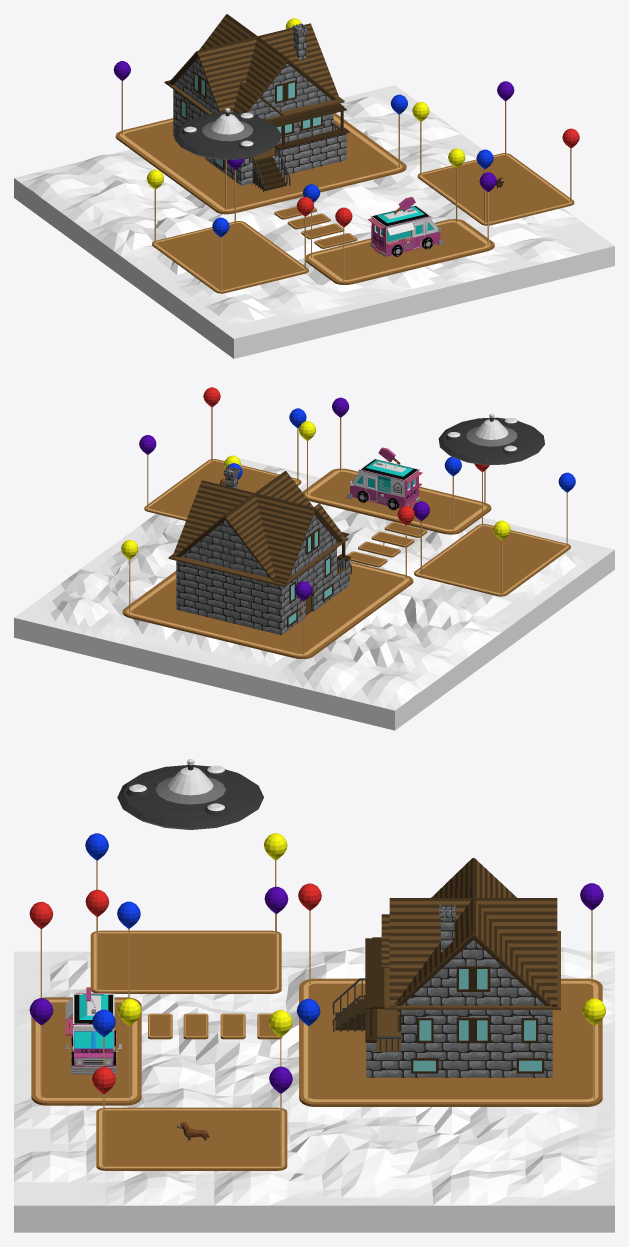
3 views of the same model, one above another, from view 1: azimuth 30°, elevation 25°; view 2: azimuth 150°, elevation 25°; view 3: azimuth 270°, elevation 25° (orthographic). The views are drawn at different scales.
Visible parts, largest first — view 1: Cube.013, Cube.586, OBJRANDOM_UFO, VEHICLES_ICE_CREAM_TRUCK; view 2: Cube.013, Cube.586, OBJRANDOM_UFO, VEHICLES_ICE_CREAM_TRUCK; view 3: Cube.013, Cube.586, OBJRANDOM_UFO, VEHICLES_ICE_CREAM_TRUCK.
Part boxes in pixels (box(x1,y1,x2,y2)): Cube.013: box(14, 18, 614, 358); Cube.586: box(164, 14, 349, 192); OBJRANDOM_UFO: box(174, 108, 280, 159); VEHICLES_ICE_CREAM_TRUCK: box(367, 197, 443, 256); Cube.013: box(14, 387, 614, 730); Cube.586: box(168, 466, 351, 634); OBJRANDOM_UFO: box(438, 413, 544, 465); VEHICLES_ICE_CREAM_TRUCK: box(346, 447, 422, 510); Cube.013: box(14, 833, 614, 1232); Cube.586: box(332, 858, 560, 1077); OBJRANDOM_UFO: box(117, 759, 263, 829); VEHICLES_ICE_CREAM_TRUCK: box(65, 987, 121, 1074).
Size of the model in its own units: 4000 by 1977 by 4000.
37 materials, 2 textured.
